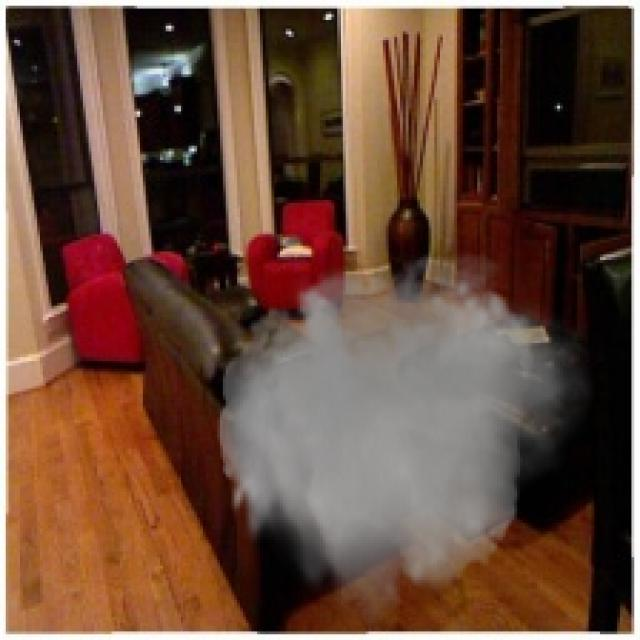smoke: (209, 237, 594, 637)
